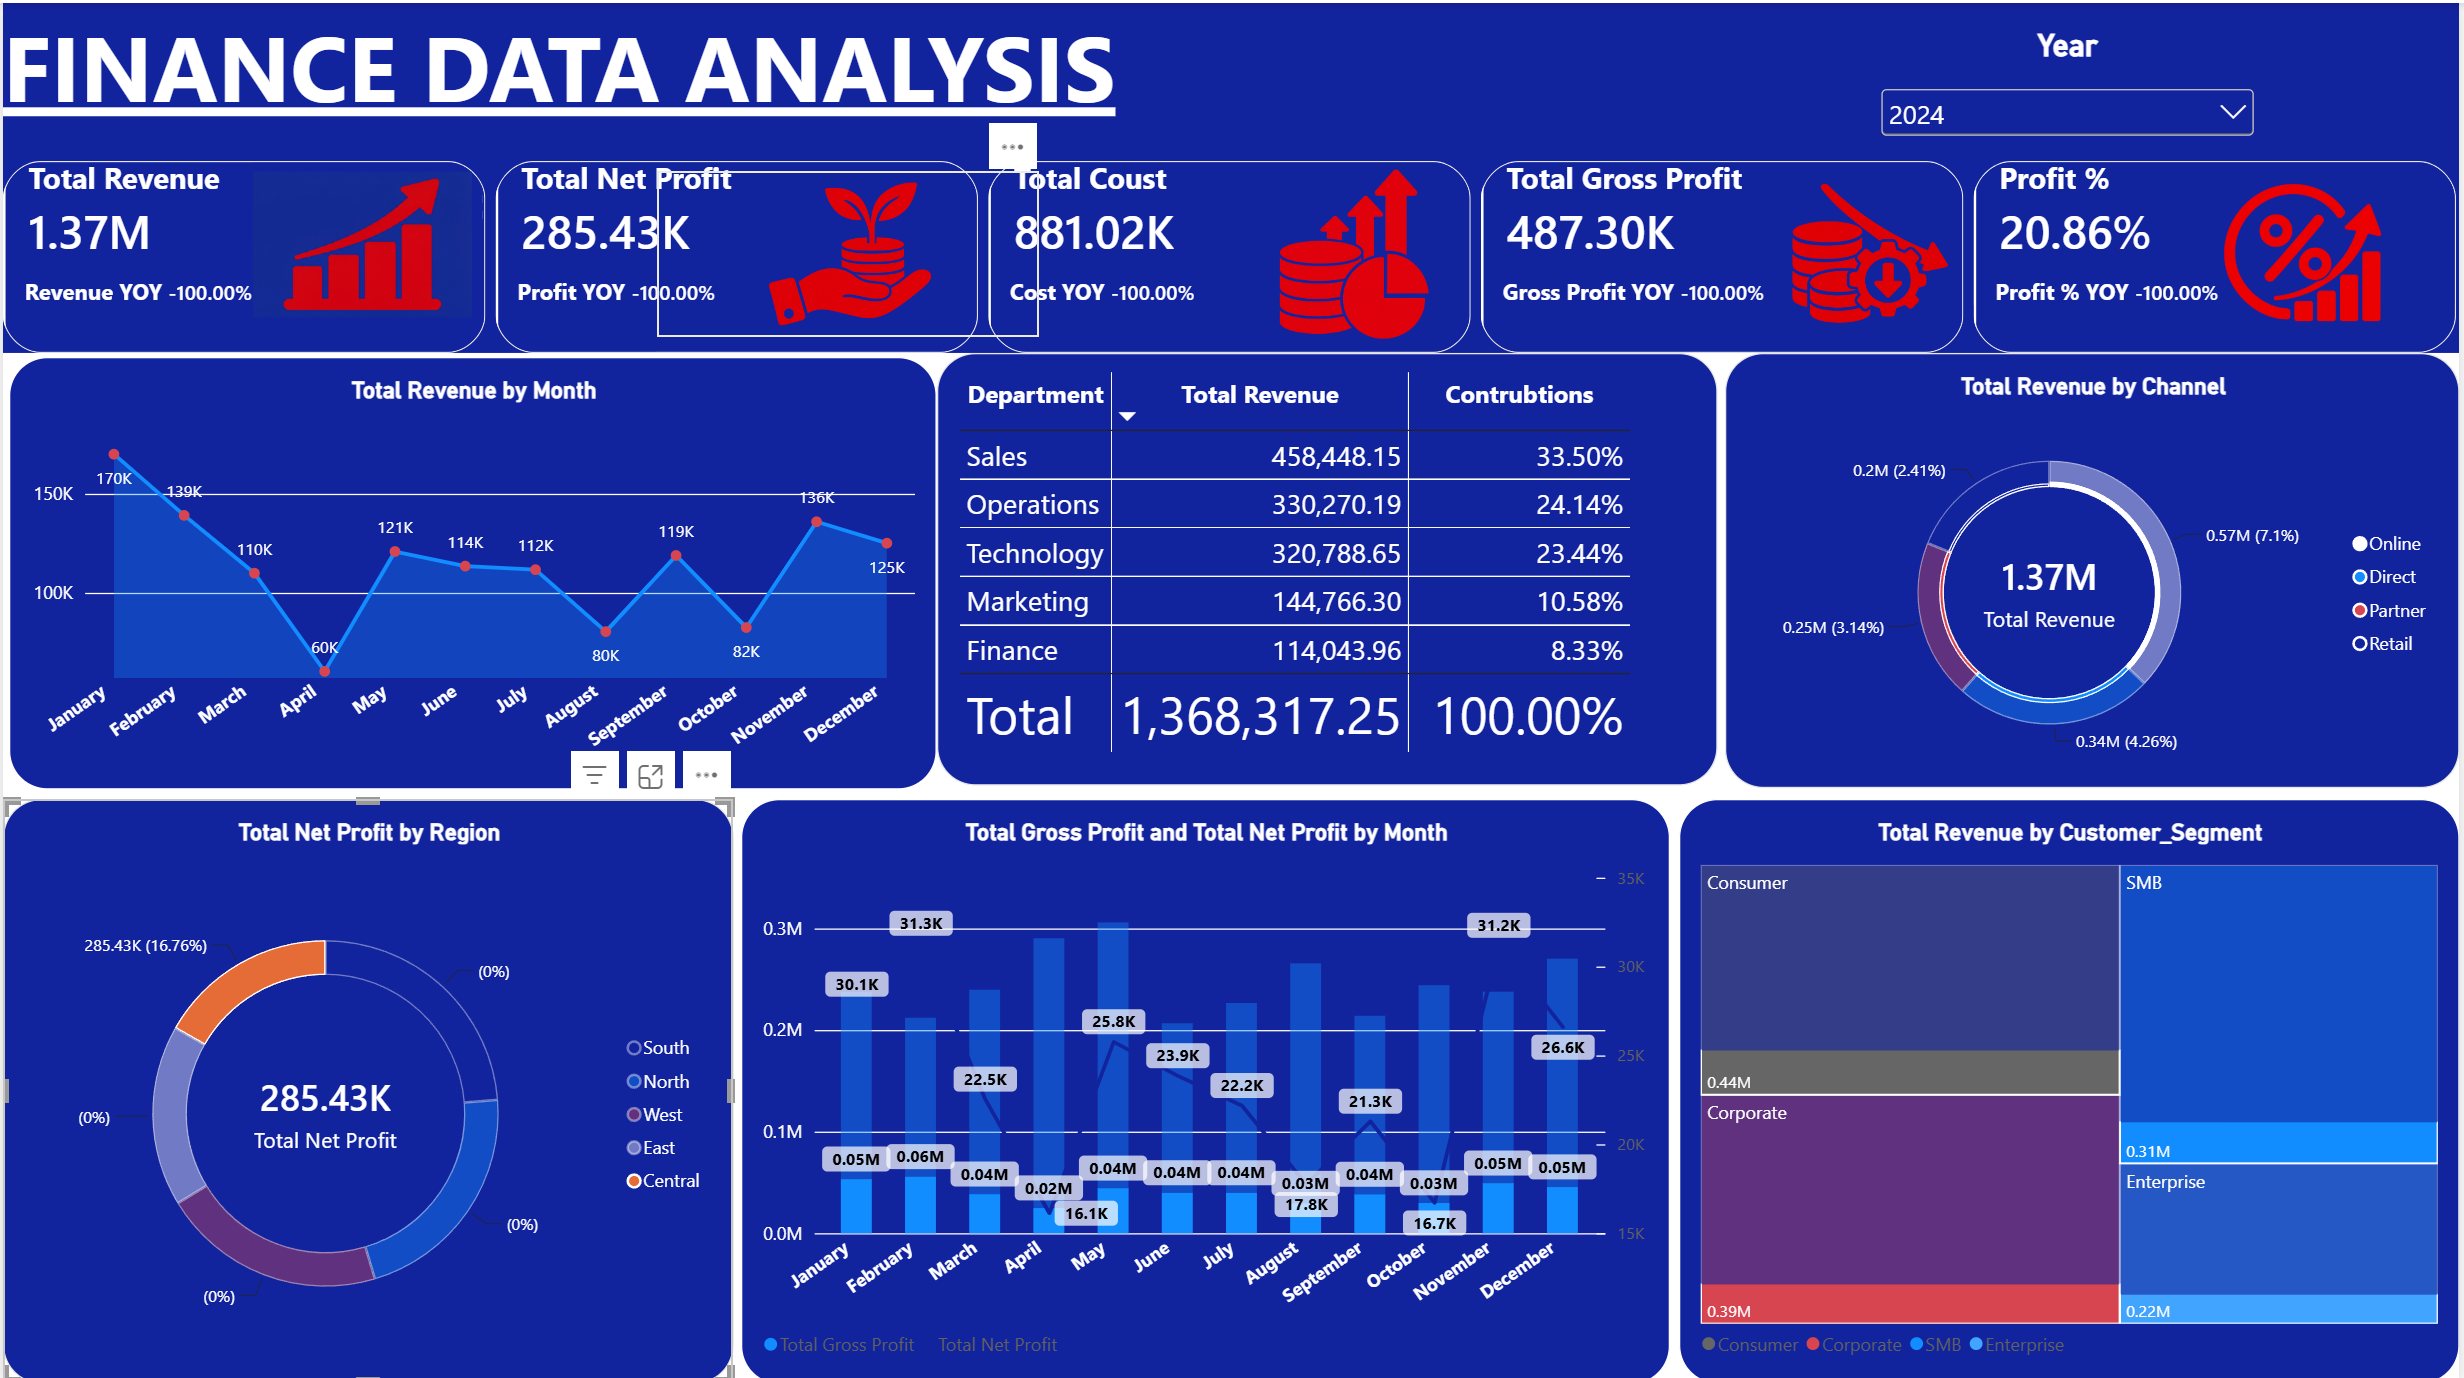

This screenshot's page, from the dashboard's own definition file:
{"tool":"powerbi","page":{"name":"Dashboard","canvas":[1920,1080],"ordinal":0},"visuals":[{"type":"textbox","box":[0,0,1920,123.6],"z":0},{"type":"cardVisual","fields":{"Data":["Finance Data Analysis.Total Revenue","Finance Data Analysis.Total Net Profit","Finance Data Analysis.Total Coust","Finance Data Analysis.Total Gross Profit","Finance Data Analysis.Profit %"]},"box":[0,123.6,1920,150],"z":1},{"type":"areaChart","fields":{"Category":["Finance Data Analysis.Transaction_Date.Variation.Date Hierarchy.Month"],"Y":["Finance Data Analysis.Total Revenue"]},"box":[4.1,276.1,725,337.9],"z":2},{"type":"tableEx","fields":{"Values":["Finance Data Analysis.Department","Finance Data Analysis.Total Revenue","Finance Data Analysis.Contrubtions"]},"box":[729.3,274,610,337.9],"z":3},{"type":"donutChart","fields":{"Category":["Finance Data Analysis.Channel"],"Y":["Finance Data Analysis.Total Revenue"]},"box":[1345.2,274,574,340],"z":4},{"type":"lineClusteredColumnComboChart","fields":{"Category":["Finance Data Analysis.Transaction_Date.Variation.Date Hierarchy.Month"],"Y":["Finance Data Analysis.Total Gross Profit"],"Y2":["Finance Data Analysis.Total Net Profit"]},"box":[576.8,622.1,726,457.3],"z":5},{"type":"treemap","fields":{"Group":["Finance Data Analysis.Customer_Segment"],"Values":["Finance Data Analysis.Total Revenue"]},"box":[1310.2,622.1,610,457],"z":6},{"type":"donutChart","fields":{"Category":["Finance Data Analysis.Region"],"Y":["Finance Data Analysis.Total Net Profit"]},"box":[0,622.1,571,457],"z":7},{"type":"slicer","title":"Year","fields":{"Values":["Finance Data Analysis.Transaction_Date.Variation.Date Hierarchy.Year"]},"box":[1462.7,18.5,300.8,88.6],"z":8},{"type":"image","box":[510.9,131.8,298.7,129.8],"z":10},{"type":"image","box":[902.3,123.6,300.8,148.3],"z":11},{"type":"image","box":[1302,131.8,298.7,129.8],"z":12},{"type":"image","box":[1666.6,131.8,255.5,129.8],"z":13},{"type":"image","box":[195.7,131.8,171,115.4],"z":14}]}

Visuals, with their boxes in screenshot pixels (x1, y1, x2, y2), scaled from the page's 1920x1080 canvas onto the 2464x1378 screenshot:
textbox: (x1=0, y1=0, x2=2463, y2=158)
cardVisual - Finance Data Analysis.Total Revenue x Finance Data Analysis.Total Net Profit: (x1=0, y1=158, x2=2463, y2=349)
areaChart - Finance Data Analysis.Transaction_Date.Variation.Date Hierarchy.Month x Finance Data Analysis.Total Revenue: (x1=5, y1=352, x2=936, y2=783)
tableEx - Finance Data Analysis.Department x Finance Data Analysis.Total Revenue: (x1=936, y1=350, x2=1719, y2=781)
donutChart - Finance Data Analysis.Channel x Finance Data Analysis.Total Revenue: (x1=1726, y1=350, x2=2463, y2=783)
lineClusteredColumnComboChart - Finance Data Analysis.Transaction_Date.Variation.Date Hierarchy.Month x Finance Data Analysis.Total Gross Profit: (x1=740, y1=794, x2=1672, y2=1377)
treemap - Finance Data Analysis.Customer_Segment x Finance Data Analysis.Total Revenue: (x1=1681, y1=794, x2=2463, y2=1377)
donutChart - Finance Data Analysis.Region x Finance Data Analysis.Total Net Profit: (x1=0, y1=794, x2=733, y2=1377)
"Year" slicer: (x1=1877, y1=24, x2=2263, y2=137)
image: (x1=656, y1=168, x2=1039, y2=334)
image: (x1=1158, y1=158, x2=1544, y2=347)
image: (x1=1671, y1=168, x2=2054, y2=334)
image: (x1=2139, y1=168, x2=2463, y2=334)
image: (x1=251, y1=168, x2=471, y2=315)
